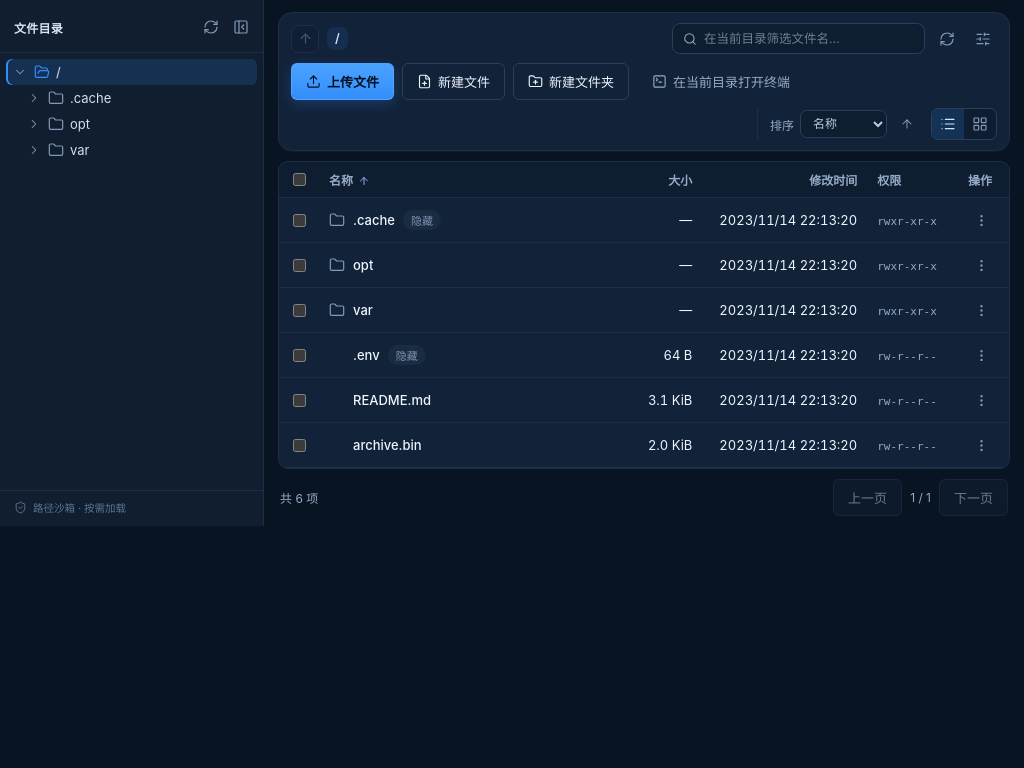
Scenario: FileWorkspace › keeps selection actions in the toolbar without inserting a panel
The image size is (1024, 768).
Click the checkbox named "选择 README.md".
click(300, 400)  # box [293,394,306,406]
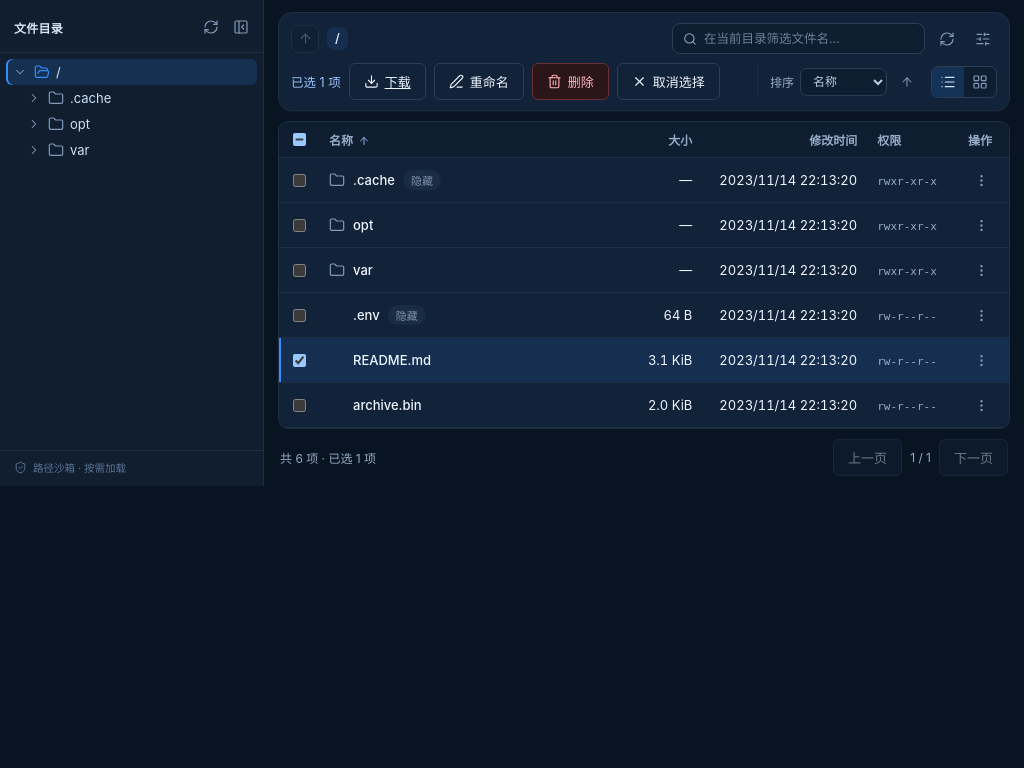
Check: the message with class "ed-selection-count" reads "已选 1 项", box [291,72,341,91]
Check: the element with class "ed-files-toolbar" shows "重命名", box [434,63,524,100]
Check: the element with class "ed-files-toolbar" shows "取消选择"
Click the button "取消选择".
click(668, 82)  # box [617,63,720,100]
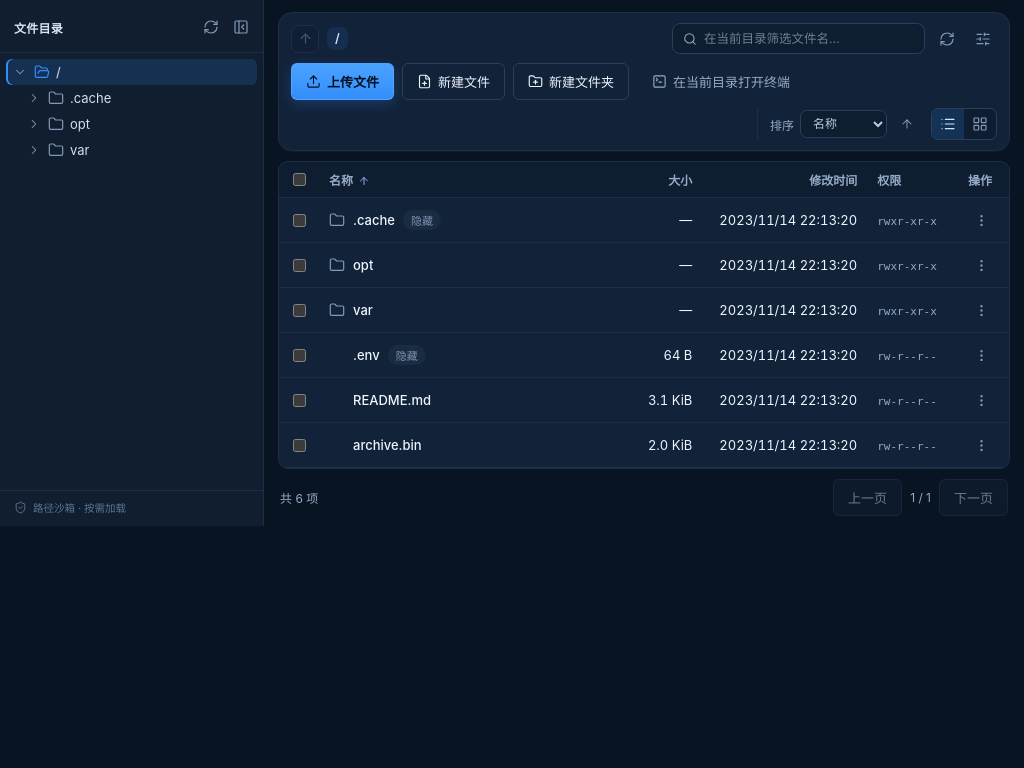
Check: the message with class "ed-selection-count" is gone
Check: the element with class "ed-files-toolbar" shows "上传文件", box [291,63,394,100]
